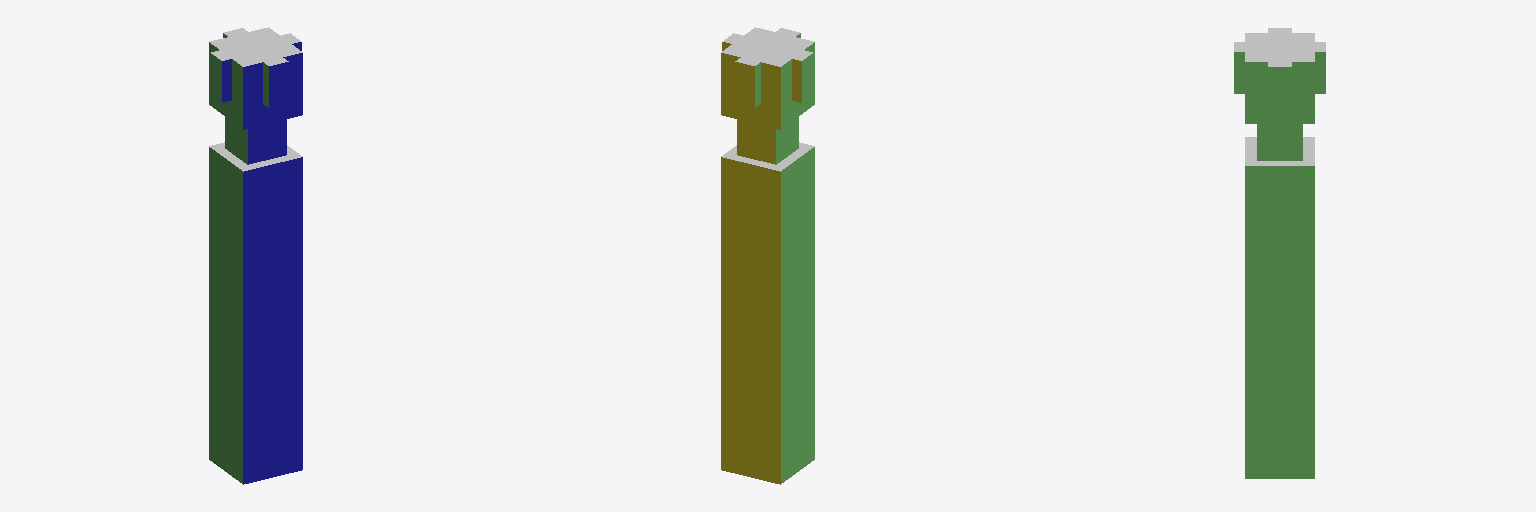
3 renders of one model, left to right at view 1: azimuth 30°, elevation 25°; view 2: azimuth 150°, elevation 25°; view 3: azimuth 270°, elevation 25°, orthographic.
Parts seen in each view (by area): view 1: body.014_Cube.044, emitter.014_Cube.043, pommel.014_Cube.045; view 2: body.014_Cube.044, emitter.014_Cube.043, pommel.014_Cube.045; view 3: body.014_Cube.044, emitter.014_Cube.043, pommel.014_Cube.045.
Part boxes in pixels (left/top/right/bottom): body.014_Cube.044: left=209, top=142, right=302, bottom=421; emitter.014_Cube.043: left=209, top=27, right=302, bottom=164; pommel.014_Cube.045: left=209, top=397, right=302, bottom=484; body.014_Cube.044: left=721, top=142, right=814, bottom=421; emitter.014_Cube.043: left=721, top=27, right=814, bottom=164; pommel.014_Cube.045: left=721, top=397, right=814, bottom=484; body.014_Cube.044: left=1245, top=137, right=1314, bottom=416; emitter.014_Cube.043: left=1234, top=28, right=1325, bottom=160; pommel.014_Cube.045: left=1245, top=417, right=1314, bottom=478.
Bounding box in the file's own units: 0.4 × 2 × 0.4.
Materials: 1 (1 with a texture image).